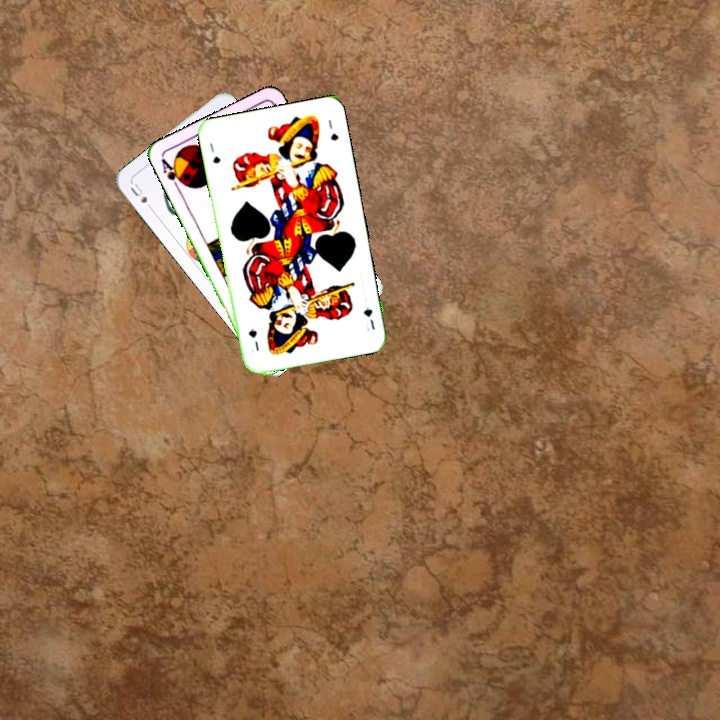GU: (360, 303, 378, 334), (205, 139, 223, 166)
SA: (157, 154, 188, 192)
SU: (126, 179, 157, 214)
